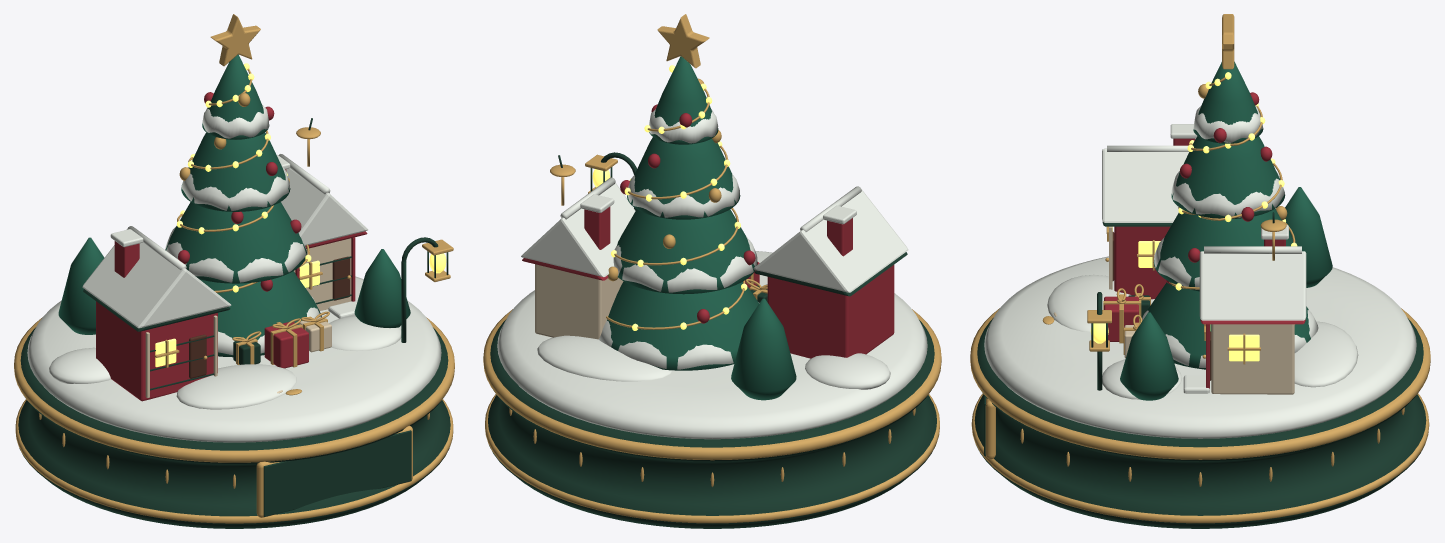
File: flashclip-natal.glb
The picture shows the model from 3 angles, left to right: view 1: azimuth 30°, elevation 25°; view 2: azimuth 150°, elevation 25°; view 3: azimuth 270°, elevation 25°; orthographic projection. The views are drawn at different scales.
Visible parts, largest first — view 1: ENV_snow_island, BASE_turned_emerald_pedestal, BASE_front_medallion_inset, BASE_upper_gold_collar, HOUSE_red_cabin_roof_snow, HOUSE_red_cabin_walls, HERO_pine_tier_1, HERO_pine_tier_2, HERO_pine_tier_0, ENV_snowbank_3, BASE_lower_gold_trim, HOUSE_cream_cabin_roof_snow (+20 smaller); view 2: BASE_turned_emerald_pedestal, ENV_snow_island, HERO_pine_tier_0, HOUSE_red_cabin_walls, BASE_upper_gold_collar, HOUSE_red_cabin_roof_snow, HERO_pine_tier_1, HERO_pine_tier_2, HOUSE_cream_cabin_walls, ENV_small_pine_0, HOUSE_cream_cabin_roof_snow, BASE_lower_gold_trim (+12 smaller); view 3: BASE_turned_emerald_pedestal, ENV_snow_island, HOUSE_cream_cabin_roof_snow, BASE_upper_gold_collar, HOUSE_red_cabin_roof_snow, HOUSE_cream_cabin_walls, HERO_pine_tier_2, BASE_lower_gold_trim, HERO_pine_tier_1, ENV_small_pine_1, HERO_pine_tier_0, ENV_snowbank_1 (+16 smaller).
Part boxes in pixels (x1,y1,x2,y2): ENV_snow_island: (27,276,441,442); BASE_turned_emerald_pedestal: (18,327,450,528); BASE_front_medallion_inset: (263,430,411,516); BASE_upper_gold_collar: (14,317,454,462); HOUSE_red_cabin_roof_snow: (82,229,231,328); HOUSE_red_cabin_walls: (96,301,217,401); HERO_pine_tier_1: (165,202,306,283); HERO_pine_tier_2: (181,132,290,211); HERO_pine_tier_0: (200,271,321,357); ENV_snowbank_3: (176,364,296,409); BASE_lower_gold_trim: (15,399,453,523); HOUSE_cream_cabin_roof_snow: (281,168,368,245); BASE_turned_emerald_pedestal: (488,320,936,528); ENV_snow_island: (497,251,927,439); HERO_pine_tier_0: (607,281,758,370); HOUSE_red_cabin_walls: (767,265,894,358); BASE_upper_gold_collar: (483,309,941,460); HOUSE_red_cabin_roof_snow: (753,189,908,292); HERO_pine_tier_1: (617,209,757,294); HERO_pine_tier_2: (627,137,740,219); HOUSE_cream_cabin_walls: (535,264,623,339); ENV_small_pine_0: (731,298,796,400); HOUSE_cream_cabin_roof_snow: (521,183,635,277); BASE_lower_gold_trim: (485,394,939,523); BASE_turned_emerald_pedestal: (974,318,1426,528); ENV_snow_island: (984,256,1416,438); HOUSE_cream_cabin_roof_snow: (1199,251,1306,320); BASE_upper_gold_collar: (970,308,1430,459); HOUSE_red_cabin_roof_snow: (1102,148,1188,222); HOUSE_cream_cabin_walls: (1211,324,1294,394); HERO_pine_tier_2: (1171,136,1285,218); BASE_lower_gold_trim: (971,393,1429,523); HERO_pine_tier_1: (1153,209,1292,291); ENV_small_pine_1: (1120,312,1178,400); HERO_pine_tier_0: (1147,282,1310,369); ENV_snowbank_1: (1294,321,1358,387).
Size of the model in its own units: 3.15 by 3.26 by 3.15.
